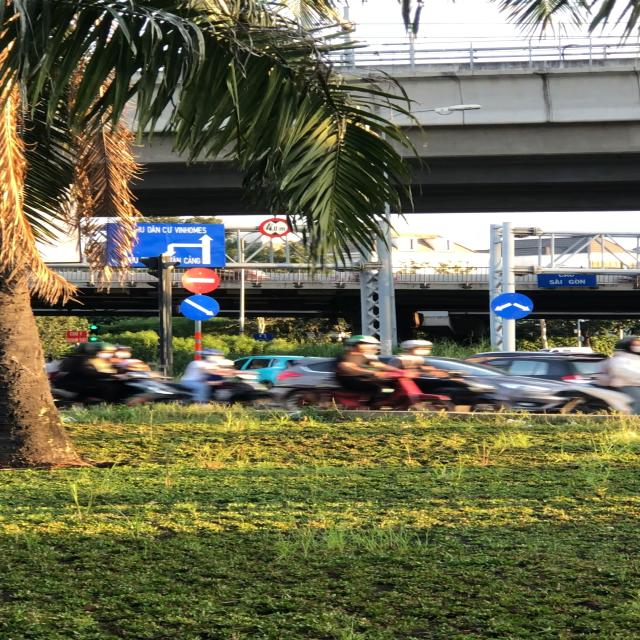Bien bao cam di nguoc chieu: (179, 265, 225, 295)
